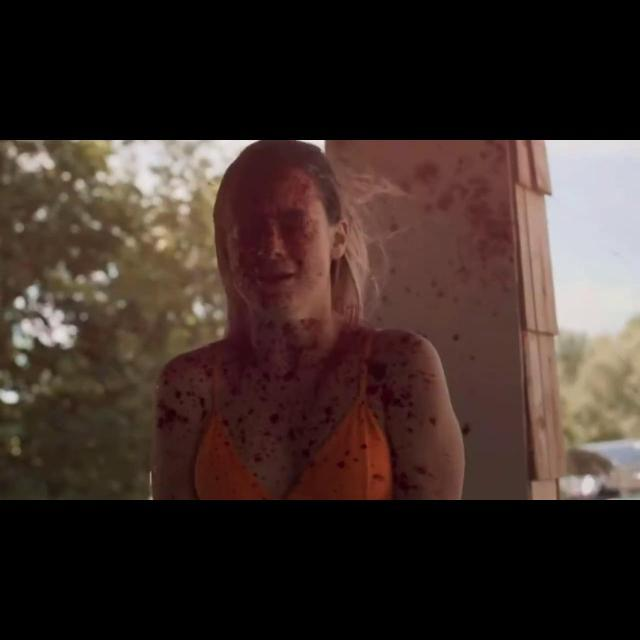blood: (150, 140, 466, 500), (410, 146, 512, 308), (362, 238, 446, 368), (322, 140, 416, 198), (446, 294, 480, 372), (386, 210, 404, 242), (482, 140, 504, 156)
